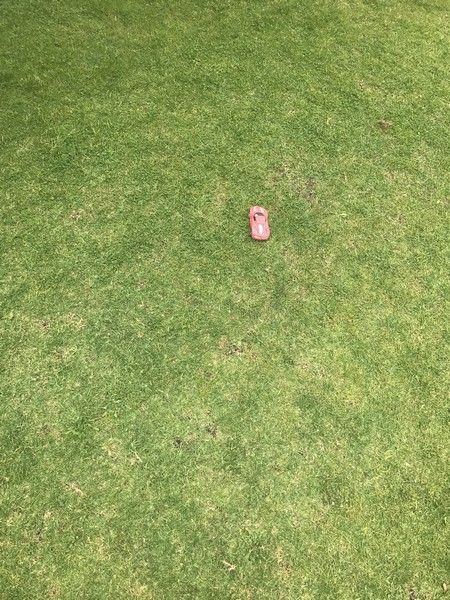RC: (244, 204, 273, 242)
